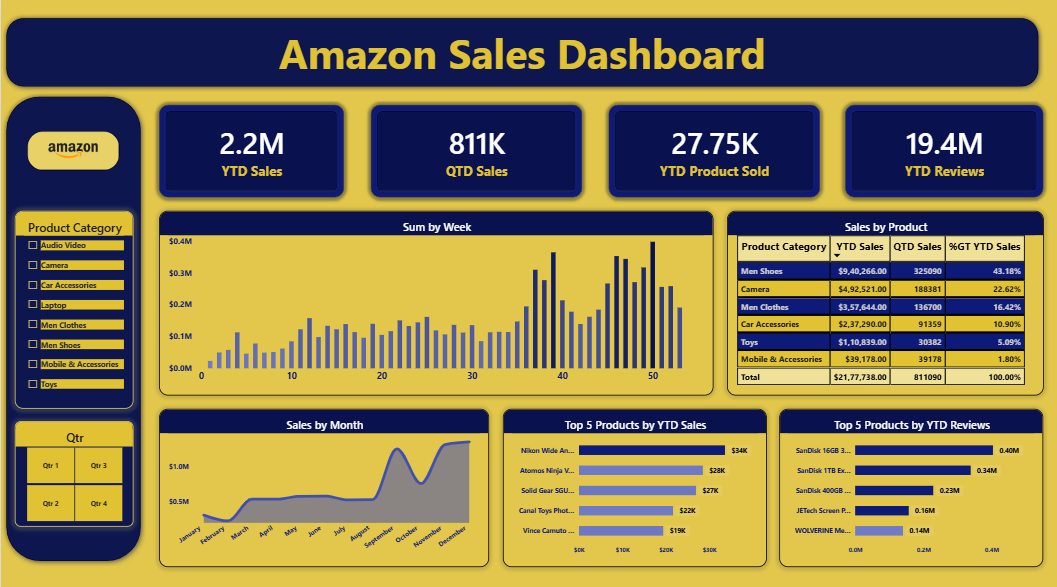

What the dashboard file says about the page in this screenshot:
{"tool":"powerbi","page":{"name":"Page 1","canvas":[1920,1080],"ordinal":0},"visuals":[{"type":"textbox","box":[10,0,280,280],"z":0},{"type":"shape","box":[0,24,1896,144],"z":1000},{"type":"shape","box":[0,168,264,864],"z":2000},{"type":"cardVisual","fields":{"Data":["Amazon_Data.YTD Sales"]},"box":[288,192,336,168],"z":3000},{"type":"cardVisual","fields":{"Data":["Amazon_Data.QTD Sales"]},"box":[672,192,384,168],"z":4000},{"type":"cardVisual","fields":{"Data":["Amazon_Data.YTD Product Sold"]},"box":[1104,192,384,168],"z":5000},{"type":"cardVisual","fields":{"Data":["Amazon_Data.YTD Reviews"]},"box":[1536,192,360,168],"z":6000},{"type":"areaChart","title":"Sales by Month","fields":{"Category":["Date Table.Date.Variation.Date Hierarchy.Month"],"Y":["Sum(Amazon_Data.Price(Dollar))"]},"box":[288,744,600,288],"z":7000},{"type":"columnChart","title":"Sum by Week","fields":{"Y":["Sum(Amazon_Data.Price(Dollar))"],"Category":["Date Table.Week"]},"box":[288,384,1008,336],"z":8000},{"type":"tableEx","title":"Sales  by Product","fields":{"Values":["Amazon_Data.Product Category","Amazon_Data.YTD Sales","Amazon_Data.QTD Sales","Divide(Amazon_Data.YTD Sales, ScopedEval(Amazon_Data.YTD Sales, []))"]},"box":[1320,384,576,336],"z":9000},{"type":"clusteredBarChart","title":"Top 5 Products by YTD Sales","fields":{"Category":["Amazon_Data.Product Description"],"Y":["Amazon_Data.YTD Sales"]},"box":[912,744,480,288],"z":10000},{"type":"clusteredBarChart","title":"Top 5 Products by YTD Reviews","fields":{"Category":["Amazon_Data.Product Description"],"Y":["Amazon_Data.YTD Reviews"]},"box":[1416,744,480,288],"z":11000},{"type":"slicer","title":"Product Category","fields":{"Values":["Amazon_Data.Product Category"]},"box":[24,384,216,360],"z":12000},{"type":"slicer","title":"Qtr","fields":{"Values":["Date Table.Qtr"]},"box":[24,768,216,192],"z":13000},{"type":"image","box":[24,48,168,96],"z":14000}]}

Visuals, with their boxes in screenshot pixels (x1, y1, x2, y2), scaled from the page's 1920x1080 canvas onto the 1057x587 screenshot:
textbox: select_region(6, 0, 160, 152)
shape: select_region(0, 13, 1044, 91)
shape: select_region(0, 91, 145, 561)
cardVisual - Amazon_Data.YTD Sales: select_region(159, 104, 344, 196)
cardVisual - Amazon_Data.QTD Sales: select_region(370, 104, 581, 196)
cardVisual - Amazon_Data.YTD Product Sold: select_region(608, 104, 819, 196)
cardVisual - Amazon_Data.YTD Reviews: select_region(846, 104, 1044, 196)
"Sales by Month" areaChart: select_region(159, 404, 489, 561)
"Sum by Week" columnChart: select_region(159, 209, 713, 391)
"Sales  by Product" tableEx: select_region(727, 209, 1044, 391)
"Top 5 Products by YTD Sales" clusteredBarChart: select_region(502, 404, 766, 561)
"Top 5 Products by YTD Reviews" clusteredBarChart: select_region(780, 404, 1044, 561)
"Product Category" slicer: select_region(13, 209, 132, 404)
"Qtr" slicer: select_region(13, 417, 132, 522)
image: select_region(13, 26, 106, 78)
